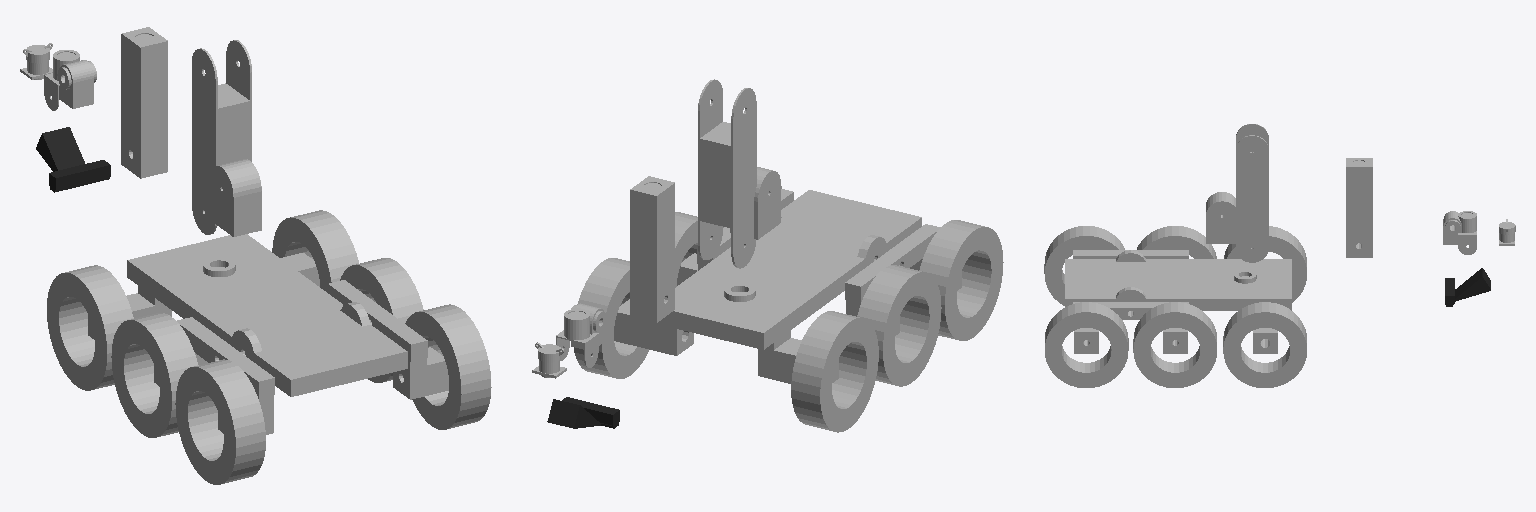
The robot description file, URDF, robot "engineer_0520_description":
<?xml version="1.0" encoding="utf-8"?>
<!-- This URDF was automatically created by SolidWorks to URDF Exporter! Originally created by Stephen Brawner (brawner@gmail.com) 
     Commit Version: 1.6.0-4-g7f85cfe  Build Version: 1.6.7995.38578
     For more information, please see http://wiki.ros.org/sw_urdf_exporter -->
<robot
  name="engineer_0520_description">
  <link
    name="world" />
  <joint
    name="world_to_base_link"
    type="fixed">
    <origin
      xyz="0 0 0"
      rpy="0 0 0" />
    <parent
      link="world" />
    <child
      link="base_link" />
  </joint>
  <link
    name="base_link">
    <inertial>
      <origin
        xyz="-0.15574296864304 0.25090625062732 0.235076139553237"
        rpy="0 0 0" />
      <mass
        value="1845.63092770644" />
      <inertia
        ixx="347.000686482479"
        ixy="7.0242702233582E-07"
        ixz="1.47566858487164E-06"
        iyy="393.235048089486"
        iyz="-0.000180676144602403"
        izz="346.993091857669" />
    </inertial>
    <visual>
      <origin
        xyz="0 0 0"
        rpy="0 0 0" />
      <geometry>
        <mesh
          filename="package://engineer_0520_description/meshes/base_link.STL" />
      </geometry>
      <material
        name="">
        <color
          rgba="0.752941176470588 0.752941176470588 0.752941176470588 1" />
      </material>
    </visual>
    <collision>
      <origin
        xyz="0 0 0"
        rpy="0 0 0" />
      <geometry>
        <mesh
          filename="package://engineer_0520_description/meshes/base_link.STL" />
      </geometry>
    </collision>
  </link>
  <link
    name="J1_link">
    <inertial>
      <origin
        xyz="-0.0187536614195956 0.132069580136279 0.000197561285718323"
        rpy="0 0 0" />
      <mass
        value="2.01551628733357" />
      <inertia
        ixx="0.0105697583079727"
        ixy="-9.82312126860049E-07"
        ixz="9.68727270818069E-07"
        iyy="0.0012445175584642"
        iyz="2.03452664199397E-05"
        izz="0.00964014877895151" />
    </inertial>
    <visual>
      <origin
        xyz="0 0 0"
        rpy="0 0 0" />
      <geometry>
        <mesh
          filename="package://engineer_0520_description/meshes/J1_link.STL" />
      </geometry>
      <material
        name="">
        <color
          rgba="0.752941176470588 0.752941176470588 0.752941176470588 1" />
      </material>
    </visual>
    <collision>
      <origin
        xyz="0 0 0"
        rpy="0 0 0" />
      <geometry>
        <mesh
          filename="package://engineer_0520_description/meshes/J1_link.STL" />
      </geometry>
    </collision>
  </link>
  <joint
    name="J1_joint"
    type="revolute">
    <origin
      xyz="0 0.1315 0.132"
      rpy="0 0 0" />
    <parent
      link="base_link" />
    <child
      link="J1_link" />
    <axis
      xyz="0 1 0" />
    <limit
      lower="-2.96"
      upper="2.96"
      effort="9"
      velocity="20.0" />
  </joint>
  <link
    name="J2_link">
    <inertial>
      <origin
        xyz="-0.0272444412408289 0.237454011381441 6.73891861327769E-05"
        rpy="0 0 0" />
      <mass
        value="1.5324502721387" />
      <inertia
        ixx="0.00593383574667708"
        ixy="-2.94416883919934E-09"
        ixz="4.78295159906094E-07"
        iyy="0.0011293748733648"
        iyz="1.35372771031177E-06"
        izz="0.00517042153986259" />
    </inertial>
    <visual>
      <origin
        xyz="0 0 0"
        rpy="0 0 0" />
      <geometry>
        <mesh
          filename="package://engineer_0520_description/meshes/J2_link.STL" />
      </geometry>
      <material
        name="">
        <color
          rgba="0.752941176470588 0.752941176470588 0.752941176470588 1" />
      </material>
    </visual>
    <collision>
      <origin
        xyz="0 0 0"
        rpy="0 0 0" />
      <geometry>
        <mesh
          filename="package://engineer_0520_description/meshes/J2_link.STL" />
      </geometry>
    </collision>
  </link>
  <joint
    name="J2_joint"
    type="revolute">
    <origin
      xyz="0.019 0.09 0"
      rpy="0 0 0" />
    <parent
      link="J1_link" />
    <child
      link="J2_link" />
    <axis
      xyz="-1 0 0" />
    <limit
      lower="-1.04"
      upper="1.04"
      effort="24"
      velocity="20.0" />
  </joint>
  <link
    name="J3_link">
    <inertial>
      <origin
        xyz="0.000246150730100224 0.0696837478174211 -0.0145365067280068"
        rpy="0 0 0" />
      <mass
        value="0.637441970527478" />
      <inertia
        ixx="0.00271328583847924"
        ixy="7.26213212632554E-10"
        ixz="1.74819116642235E-07"
        iyy="0.00027441567972836"
        iyz="1.07057531147903E-06"
        izz="0.0025837902810134" />
    </inertial>
    <visual>
      <origin
        xyz="0 0 0"
        rpy="0 0 0" />
      <geometry>
        <mesh
          filename="package://engineer_0520_description/meshes/J3_link.STL" />
      </geometry>
      <material
        name="">
        <color
          rgba="0.752941176470588 0.752941176470588 0.752941176470588 1" />
      </material>
    </visual>
    <collision>
      <origin
        xyz="0 0 0"
        rpy="0 0 0" />
      <geometry>
        <mesh
          filename="package://engineer_0520_description/meshes/J3_link.STL" />
      </geometry>
    </collision>
  </link>
  <joint
    name="J3_joint"
    type="revolute">
    <origin
      xyz="-0.0005 0.32 0"
      rpy="0 0 0" />
    <parent
      link="J2_link" />
    <child
      link="J3_link" />
    <axis
      xyz="-1 0 0" />
    <limit
      lower="-2.62"
      upper="0.52"
      effort="12"
      velocity="20.0" />
  </joint>
  <link
    name="J4_link">
    <inertial>
      <origin
        xyz="-0.00181738524803158 0.031346229412983 9.83436362550494E-05"
        rpy="0 0 0" />
      <mass
        value="0.178639999994294" />
      <inertia
        ixx="7.5266473654563E-05"
        ixy="1.78728148504234E-08"
        ixz="3.03867212142531E-08"
        iyy="3.62165400431792E-05"
        iyz="-2.2016577990914E-08"
        izz="5.0139024590417E-05" />
    </inertial>
    <visual>
      <origin
        xyz="0 0 0"
        rpy="0 0 0" />
      <geometry>
        <mesh
          filename="package://engineer_0520_description/meshes/J4_link.STL" />
      </geometry>
      <material
        name="">
        <color
          rgba="0.752941176470588 0.752941176470588 0.752941176470588 1" />
      </material>
    </visual>
    <collision>
      <origin
        xyz="0 0 0"
        rpy="0 0 0" />
      <geometry>
        <mesh
          filename="package://engineer_0520_description/meshes/J4_link.STL" />
      </geometry>
    </collision>
  </link>
  <joint
    name="J4_joint"
    type="revolute">
    <origin
      xyz="0 0.28070210853372 0"
      rpy="0 0 0" />
    <parent
      link="J3_link" />
    <child
      link="J4_link" />
    <axis
      xyz="0 -1 0" />
    <limit
      lower="-3.14"
      upper="3.14"
      effort="4"
      velocity="20.0" />
  </joint>
  <link
    name="J5_link">
    <inertial>
      <origin
        xyz="-0.000818589722430721 0.0336820874514009 -0.000358450127793009"
        rpy="0 0 0" />
      <mass
        value="0.114681497965425" />
      <inertia
        ixx="2.93631674509271E-05"
        ixy="4.18472244802698E-09"
        ixz="2.20706578949005E-08"
        iyy="3.80349209787703E-05"
        iyz="4.35573494198617E-08"
        izz="2.7086932663539E-05" />
    </inertial>
    <visual>
      <origin
        xyz="0 0 0"
        rpy="0 0 0" />
      <geometry>
        <mesh
          filename="package://engineer_0520_description/meshes/J5_link.STL" />
      </geometry>
      <material
        name="">
        <color
          rgba="0.752941176470588 0.752941176470588 0.752941176470588 1" />
      </material>
    </visual>
    <collision>
      <origin
        xyz="0 0 0"
        rpy="0 0 0" />
      <geometry>
        <mesh
          filename="package://engineer_0520_description/meshes/J5_link.STL" />
      </geometry>
    </collision>
  </link>
  <joint
    name="J5_joint"
    type="revolute">
    <origin
      xyz="0 0.0442978914662795 0"
      rpy="0 0 0" />
    <parent
      link="J4_link" />
    <child
      link="J5_link" />
    <axis
      xyz="-1 0 0" />
    <limit
      lower="-2"
      upper="2"
      effort="5"
      velocity="20.0" />
  </joint>
  <link
    name="J6_link">
    <inertial>
      <origin
        xyz="-7.36099122376627E-05 -0.00792453225189915 1.94377710707183E-05"
        rpy="0 0 0" />
      <mass
        value="0.274222052705575" />
      <inertia
        ixx="2.7933241040805E-05"
        ixy="-3.37298349477692E-08"
        ixz="6.90052701435227E-08"
        iyy="9.61910417664122E-05"
        iyz="-7.97777742518918E-09"
        izz="7.80592654053116E-05" />
    </inertial>
    <visual>
      <origin
        xyz="0 0 0"
        rpy="0 0 0" />
      <geometry>
        <mesh
          filename="package://engineer_0520_description/meshes/J6_link.STL" />
      </geometry>
      <material
        name="">
        <color
          rgba="0.752941176470588 0.752941176470588 0.752941176470588 1" />
      </material>
    </visual>
    <collision>
      <origin
        xyz="0 0 0"
        rpy="0 0 0" />
      <geometry>
        <mesh
          filename="package://engineer_0520_description/meshes/J6_link.STL" />
      </geometry>
    </collision>
  </link>
  <joint
    name="J6_joint"
    type="revolute">
    <origin
      xyz="0 0.1179 0"
      rpy="0 0 0" />
    <parent
      link="J5_link" />
    <child
      link="J6_link" />
    <axis
      xyz="0 1 0" />
    <limit
      lower="-3.14"
      upper="3.14"
      effort="4"
      velocity="20.0" />
  </joint>
  <link
    name="claw1_link">
    <inertial>
      <origin
        xyz="0.0377332068105226 -0.0102196163488086 -0.0170292088704908"
        rpy="0 0 0" />
      <mass
        value="0.163350850695426" />
      <inertia
        ixx="9.9090701762021E-05"
        ixy="-1.24240348696389E-05"
        ixz="-2.27437709943838E-08"
        iyy="3.83929113442839E-05"
        iyz="1.27777079618242E-07"
        izz="7.99823961402051E-05" />
    </inertial>
    <visual>
      <origin
        xyz="0 0 0"
        rpy="0 0 0" />
      <geometry>
        <mesh
          filename="package://engineer_0520_description/meshes/claw1_link.STL" />
      </geometry>
      <material
        name="">
        <color
          rgba="0.866666666666667 0.866666666666667 0.890196078431372 1" />
      </material>
    </visual>
    <collision>
      <origin
        xyz="0 0 0"
        rpy="0 0 0" />
      <geometry>
        <mesh
          filename="package://engineer_0520_description/meshes/claw1_link.STL" />
      </geometry>
    </collision>
  </link>
  <joint
    name="claw1_joint"
    type="prismatic">
    <origin
      xyz="-0.0146 0.055 0.01556"
      rpy="0 0 0" />
    <parent
      link="J6_link" />
    <child
      link="claw1_link" />
    <axis
      xyz="-1 0 0" />
    <limit
      lower="-0.06"
      upper="0"
      effort="10"
      velocity="0.3" />
  </joint>
  <link
    name="claw2_link">
    <inertial>
      <origin
        xyz="-0.037733206810525 -0.0102196163488086 0.0170292088704905"
        rpy="0 0 0" />
      <mass
        value="0.163350850695426" />
      <inertia
        ixx="9.90907017620209E-05"
        ixy="1.2424034869639E-05"
        ixz="-2.27437709945702E-08"
        iyy="3.8392911344284E-05"
        iyz="-1.27777079618117E-07"
        izz="7.99823961402051E-05" />
    </inertial>
    <visual>
      <origin
        xyz="0 0 0"
        rpy="0 0 0" />
      <geometry>
        <mesh
          filename="package://engineer_0520_description/meshes/claw2_link.STL" />
      </geometry>
      <material
        name="">
        <color
          rgba="0.866666666666667 0.866666666666667 0.890196078431372 1" />
      </material>
    </visual>
    <collision>
      <origin
        xyz="0 0 0"
        rpy="0 0 0" />
      <geometry>
        <mesh
          filename="package://engineer_0520_description/meshes/claw2_link.STL" />
      </geometry>
    </collision>
  </link>
  <joint
    name="claw2_joint"
    type="prismatic">
    <origin
      xyz="0.0146 0.055 -0.01556"
      rpy="0 0 0" />
    <parent
      link="J6_link" />
    <child
      link="claw2_link" />
    <axis
      xyz="-1 0 0" />
    <limit
      lower="0"
      upper="0.06"
      effort="10"
      velocity="0.3" />
    <mimic
      joint="claw1_joint"
      multiplier="-1"
      offset="0" />
  </joint>
  <link
    name="camera_link">
    <inertial>
      <origin
        xyz="-0.0191656541034804 -0.419838670187965 -0.0243780259109728"
        rpy="0 0 0" />
      <mass
        value="20.7907911627569" />
      <inertia
        ixx="2.0459324640404"
        ixy="0.00333036757283835"
        ixz="0.0734262663039674"
        iyy="0.990870352884288"
        iyz="0.268063547882842"
        izz="2.13841873971876" />
    </inertial>
    <visual>
      <origin
        xyz="0 0 0"
        rpy="0 0 0" />
      <geometry>
        <mesh
          filename="package://engineer_0520_description/meshes/camera_link.STL" />
      </geometry>
      <material
        name="">
        <color
          rgba="0.196078431372549 0.196078431372549 0.196078431372549 1" />
      </material>
    </visual>
    <collision>
      <origin
        xyz="0 0 0"
        rpy="0 0 0" />
      <geometry>
        <mesh
          filename="package://engineer_0520_description/meshes/camera_link.STL" />
      </geometry>
    </collision>
  </link>
  <joint
    name="camera_joint"
    type="fixed">
    <origin
      xyz="0 0.26551 -0.1509"
      rpy="0.52359 0 0" />
    <parent
      link="J3_link" />
    <child
      link="camera_link" />
    <axis
      xyz="0 0 0" />
  </joint>
  <link
    name="tcp_link" />
  <joint
    name="tcp_joint"
    type="fixed">
    <origin
      xyz="-0.015 0.015 0.02"
      rpy="0 0 0" />
    <parent
      link="J6_link" />
    <child
      link="tcp_link" />
  </joint>
</robot>

--- Render facts (derived) ---
3 views of the same robot in one strip: view 1: azimuth 30°, elevation 25°; view 2: azimuth 150°, elevation 25°; view 3: azimuth 270°, elevation 25° (orthographic).
Robot: engineer_0520_description — 12 links, 11 joints (6 revolute, 2 prismatic, 3 fixed); root link world; default pose: every joint at zero.
Visible links, largest first — view 1: base_link, J2_link, J3_link, J1_link, camera_link, J4_link, J5_link, J6_link; view 2: base_link, J2_link, J3_link, camera_link, J1_link, J5_link, J6_link, J4_link; view 3: base_link, J2_link, J3_link, J1_link, camera_link, J5_link, J4_link.
Link boxes in pixels (bbox=[...]): base_link: bbox=[47, 210, 491, 484]; J2_link: bbox=[192, 40, 251, 234]; J3_link: bbox=[121, 27, 167, 178]; J1_link: bbox=[210, 159, 261, 236]; camera_link: bbox=[36, 127, 110, 192]; J4_link: bbox=[57, 60, 96, 108]; J5_link: bbox=[44, 50, 79, 110]; J6_link: bbox=[20, 43, 52, 79]; base_link: bbox=[574, 186, 1003, 432]; J2_link: bbox=[698, 79, 756, 268]; J3_link: bbox=[630, 176, 674, 322]; camera_link: bbox=[547, 397, 619, 428]; J1_link: bbox=[730, 167, 780, 239]; J5_link: bbox=[556, 309, 598, 367]; J6_link: bbox=[532, 342, 566, 378]; J4_link: bbox=[571, 303, 606, 349]; base_link: bbox=[1044, 226, 1306, 387]; J2_link: bbox=[1236, 124, 1268, 262]; J3_link: bbox=[1346, 158, 1372, 257]; J1_link: bbox=[1206, 192, 1235, 243]; camera_link: bbox=[1445, 268, 1490, 306]; J5_link: bbox=[1458, 211, 1476, 254]; J4_link: bbox=[1443, 211, 1461, 244].
Size in the robot's own frame: 0.613 by 1.41 by 0.7203 metres.
8 mesh visuals loaded from 10 distinct referenced files (8 binary STL); not drawn: 2 (reference not matched to a file when rendering).
